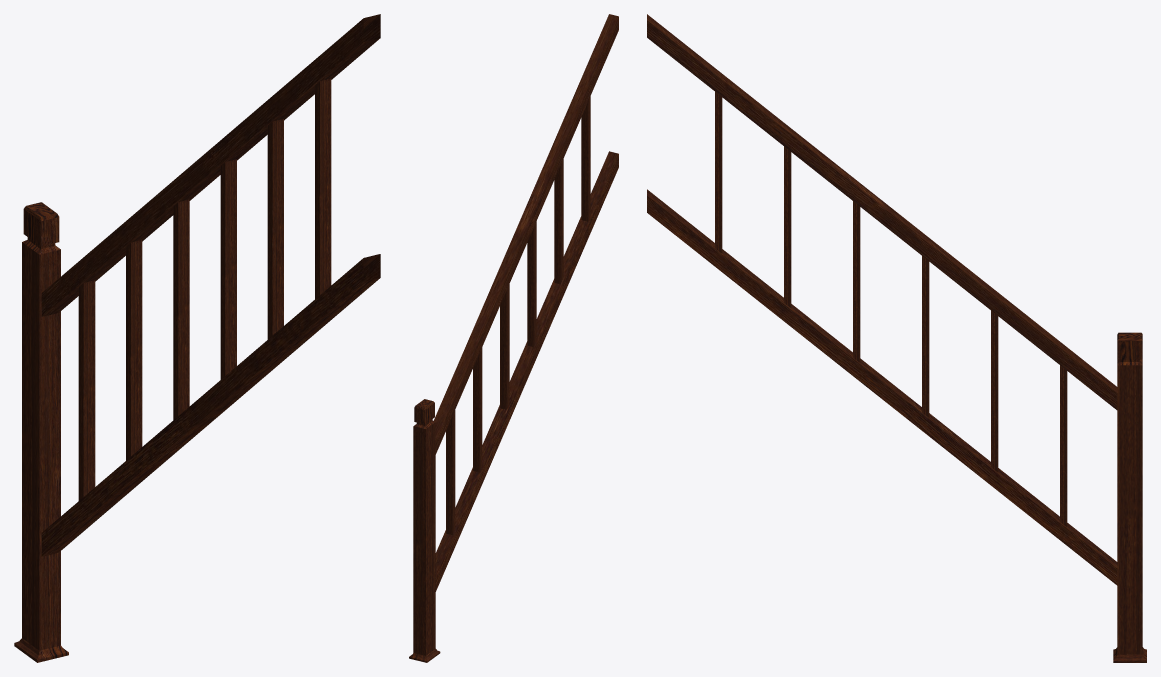
Rendered from fence_stair.fbx.
The picture shows the model from 3 angles, left to right: view 1: azimuth 30°, elevation 25°; view 2: azimuth 150°, elevation 25°; view 3: azimuth 270°, elevation 25°; orthographic projection. The views are drawn at different scales.
Parts seen in each view (by area): view 1: fence_stair; view 2: fence_stair; view 3: fence_stair.
Part boxes in pixels (bbox=[...]): fence_stair: bbox=[14, 14, 380, 662]; fence_stair: bbox=[409, 14, 618, 662]; fence_stair: bbox=[647, 14, 1146, 662].
Bounding box in the file's own units: 11 × 292 × 207.
